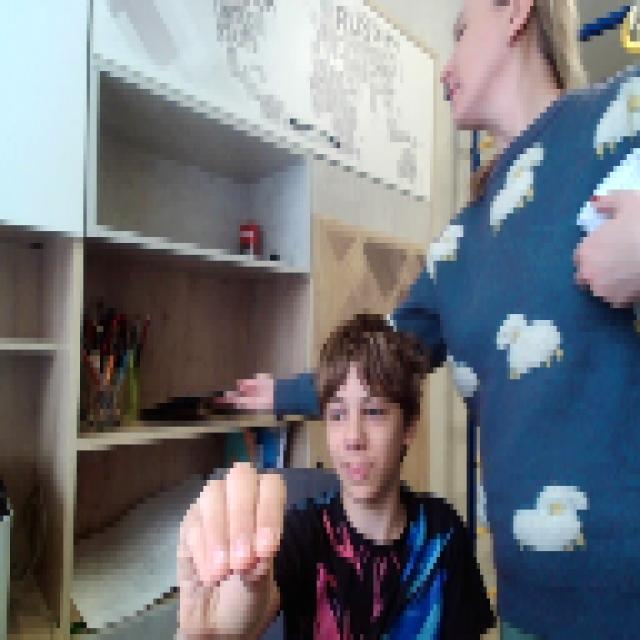left_click: (173, 450, 287, 634)
